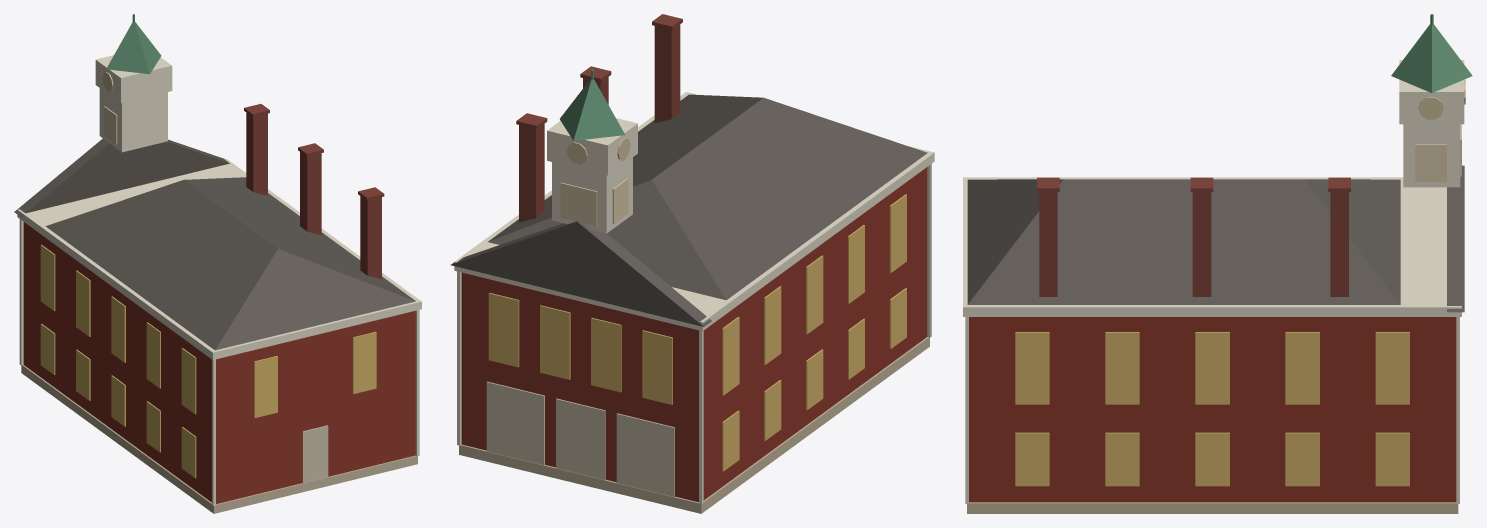
The model's file is huntingburg_town_hall.glb.
The picture shows the model from 3 angles, left to right: view 1: azimuth 30°, elevation 25°; view 2: azimuth 150°, elevation 25°; view 3: azimuth 270°, elevation 25°; orthographic projection. The views are drawn at different scales.
Visible parts, largest first — view 1: wall, roof, cornice, front_gable_roof, plinth, cupola, clock_stage, chimney_0, chimney_1, chimney_2, cupola_roof, window_rear_1 (+15 smaller); view 2: wall, roof, front_gable_roof, cornice, plinth, door_0, door_2, door_1, cupola, clock_stage, chimney_0, chimney_2 (+20 smaller); view 3: wall, roof, cornice, plinth, cupola_roof, cupola, window_n_2_0, window_n_2_1, window_n_2_2, window_n_2_3, window_n_2_4, front_gable_roof (+12 smaller).
Part boxes in pixels (left/top/right/bottom): wall: left=23, top=222, right=415, bottom=503; roof: left=45, top=177, right=415, bottom=350; cornice: left=17, top=158, right=421, bottom=359; front_gable_roof: left=14, top=138, right=229, bottom=216; plinth: left=21, top=365, right=417, bottom=513; cupola: left=99, top=88, right=167, bottom=152; clock_stage: left=95, top=55, right=172, bottom=103; chimney_0: left=360, top=196, right=381, bottom=279; chimney_1: left=300, top=152, right=321, bottom=234; chimney_2: left=246, top=113, right=267, bottom=195; cupola_roof: left=106, top=22, right=161, bottom=74; window_rear_1: left=352, top=331, right=376, bottom=393; wall: left=461, top=167, right=927, bottom=502; roof: left=488, top=94, right=927, bottom=300; front_gable_roof: left=450, top=221, right=711, bottom=326; cornice: left=454, top=92, right=934, bottom=331; plinth: left=459, top=337, right=929, bottom=513; door_0: left=616, top=413, right=674, bottom=496; door_2: left=486, top=381, right=544, bottom=465; door_1: left=556, top=398, right=605, bottom=479; cupola: left=552, top=157, right=632, bottom=233; clock_stage: left=547, top=118, right=637, bottom=175; chimney_0: left=654, top=24, right=680, bottom=122; chimney_2: left=519, top=124, right=544, bottom=222; wall: left=969, top=317, right=1456, bottom=502; roof: left=967, top=179, right=1400, bottom=304; cornice: left=963, top=177, right=1461, bottom=316; plinth: left=967, top=502, right=1458, bottom=513; cupola_roof: left=1391, top=24, right=1472, bottom=92; cupola: left=1403, top=124, right=1460, bottom=187; window_n_2_0: left=1015, top=332, right=1049, bottom=404; window_n_2_1: left=1105, top=332, right=1139, bottom=404; window_n_2_2: left=1195, top=332, right=1229, bottom=404; window_n_2_3: left=1285, top=332, right=1319, bottom=404; window_n_2_4: left=1375, top=332, right=1409, bottom=404; front_gable_roof: left=1447, top=165, right=1464, bottom=312.
Size of the model in its own units: 11.9 by 18.15 by 19.24.
